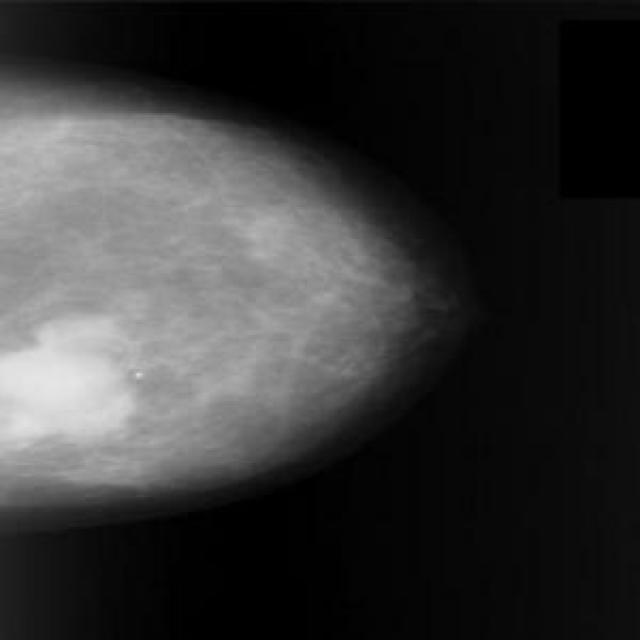tumor: (15, 304, 166, 454)
